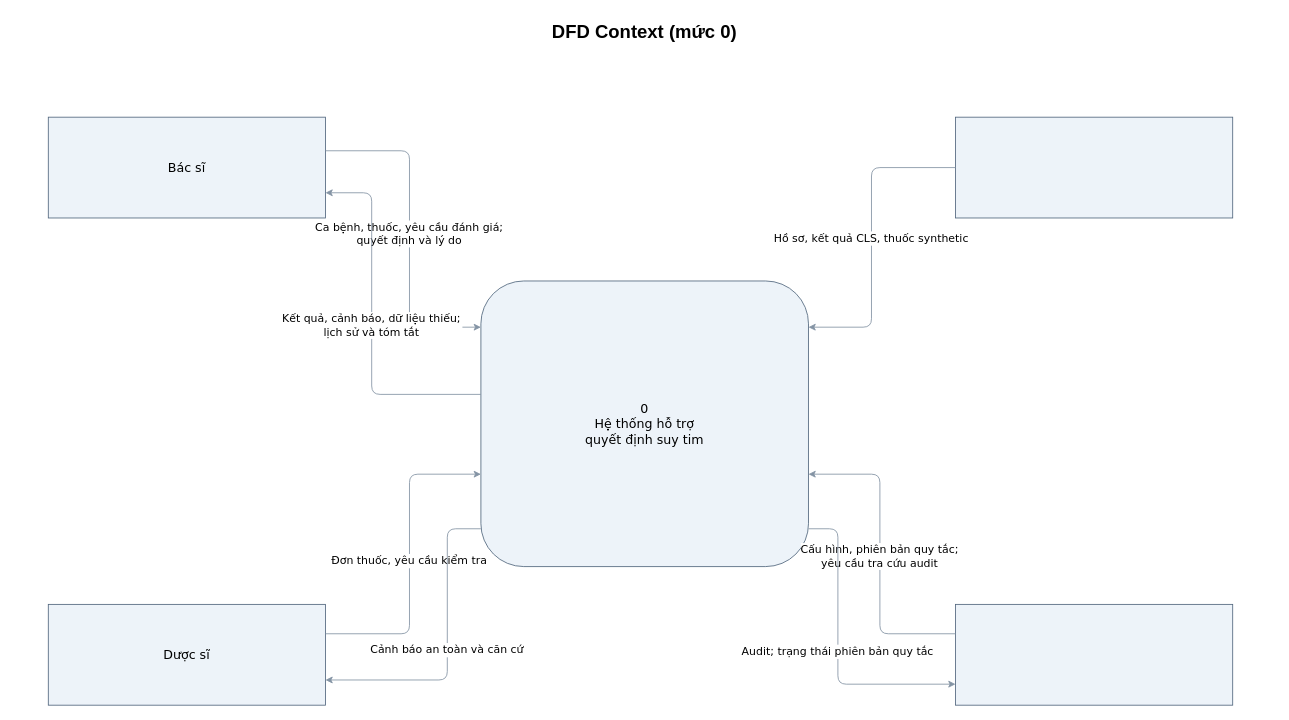
Image size: 1289x720. Some labels were removed from this diagram. The shapes that lost their labels are listed below. From the top down, each one's centre as x and y in pixels, then its label:
pixel 1094 167: Nguồn synthetic HIS/EMR, LIS, PACS/RIS mô phỏng
pixel 1094 654: Quản trị viên
